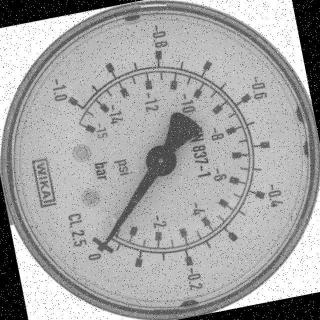gauge: (0, 0, 320, 320), (142, 143, 180, 180), (85, 225, 120, 262), (54, 83, 92, 117), (91, 235, 115, 257)
